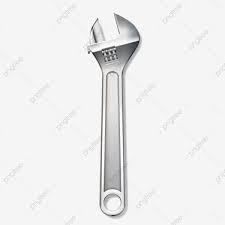wrench: (82, 8, 151, 220)
